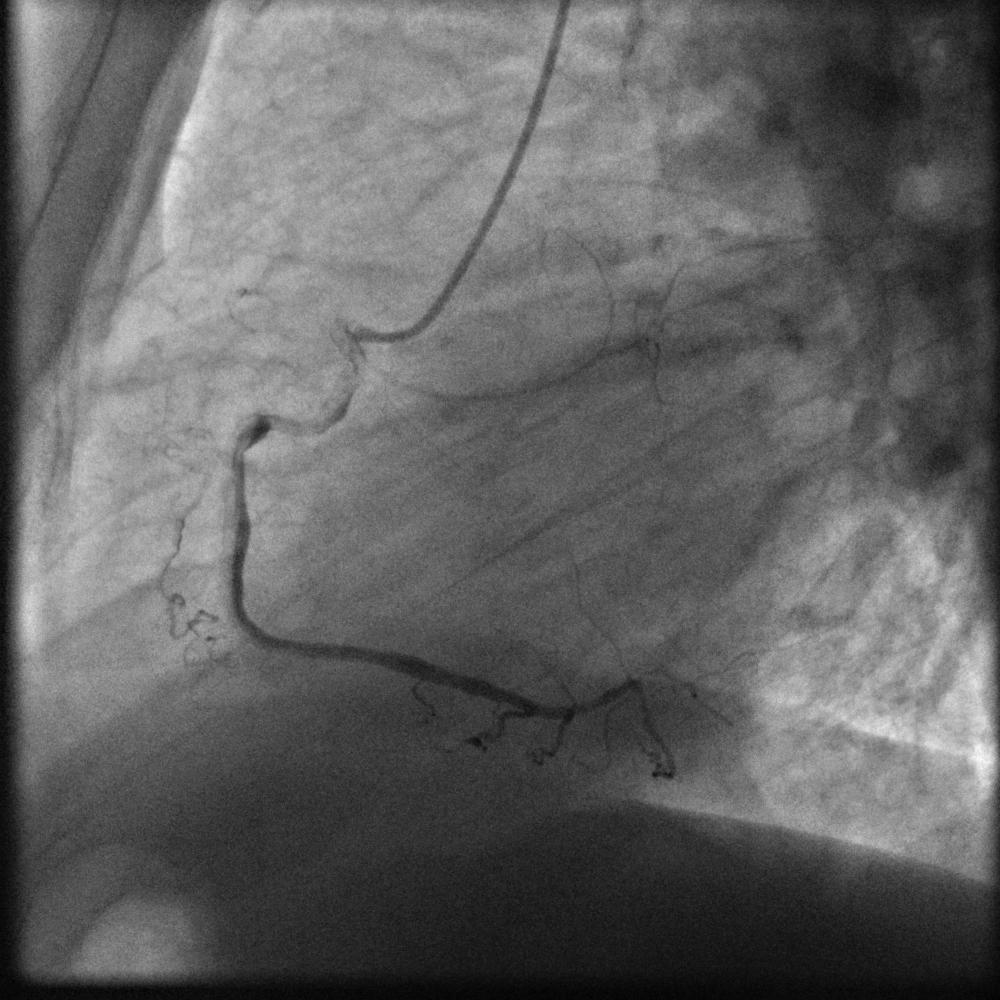Stenosis: (266, 409, 296, 437)
